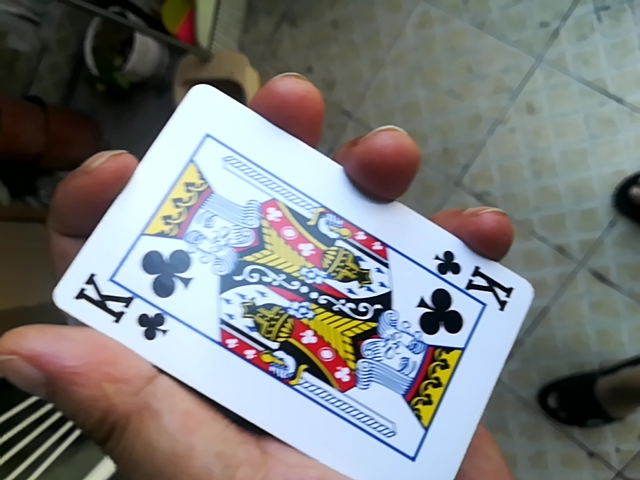mh k: (53, 78, 530, 477)
